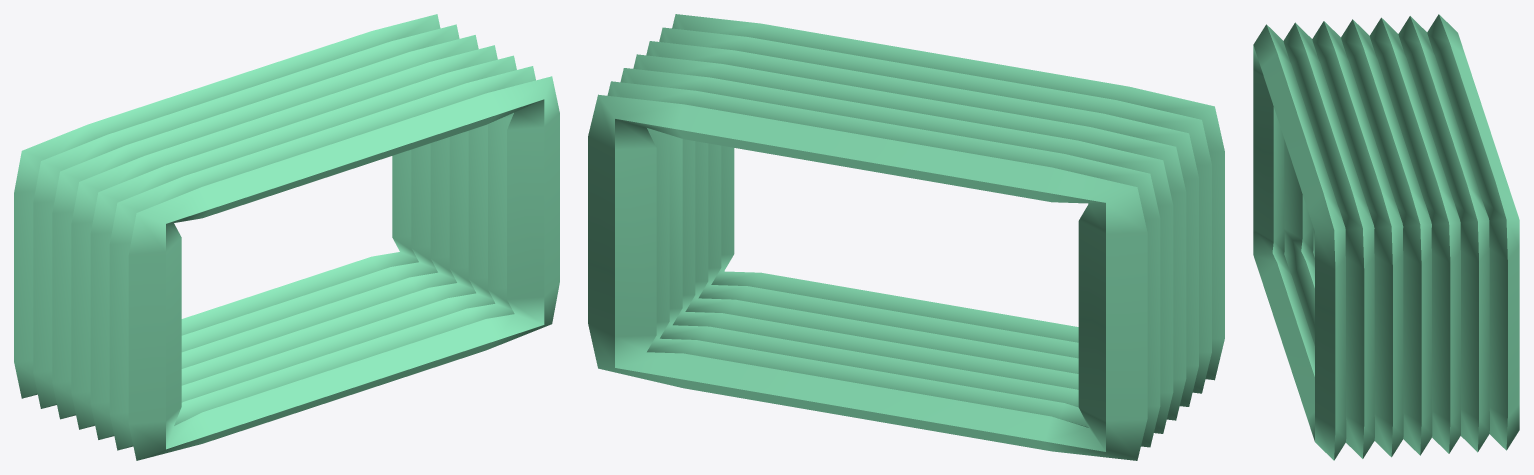
Rendered from Table_UV.fbx.
3 renders of one model, left to right at view 1: azimuth 30°, elevation 25°; view 2: azimuth 150°, elevation 25°; view 3: azimuth 270°, elevation 25°, orthographic. The views are drawn at different scales.
Visible parts, largest first — view 1: Table1; view 2: Table1; view 3: Table1.
Boxes of the visible parts, <box> form: Table1: <box>14,14,559,460</box>; Table1: <box>588,14,1224,460</box>; Table1: <box>1253,14,1519,460</box>.
Size of the model in its own units: 141 by 70.51 by 70.95.
